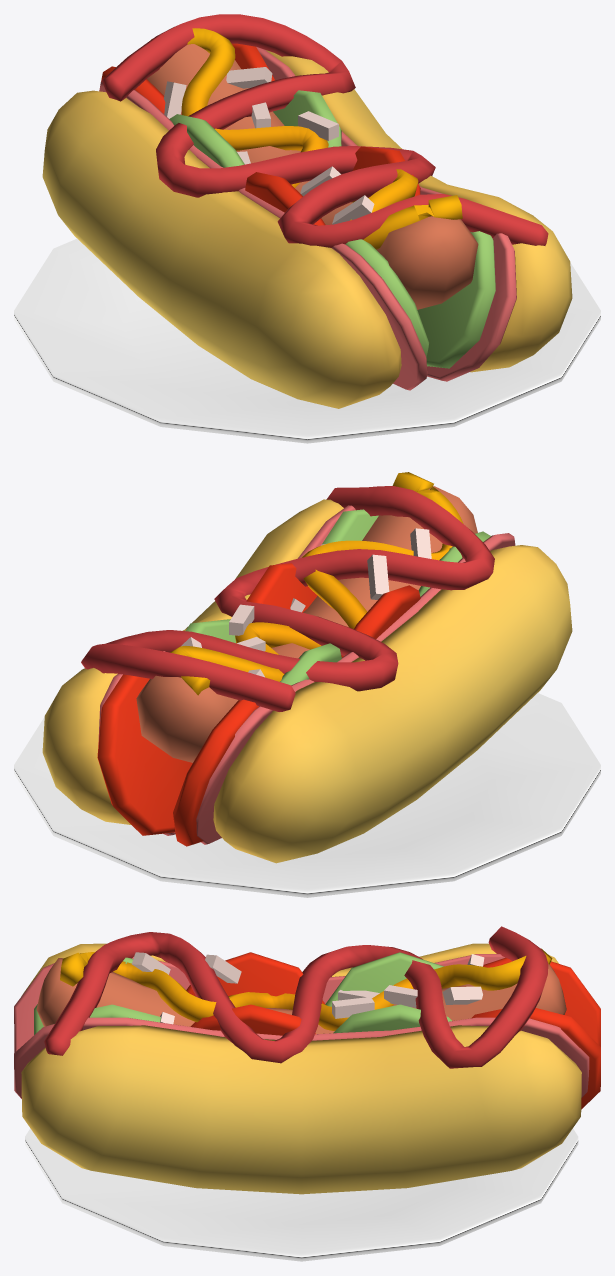
Rendered from SHotdog.fbx.
The picture shows the model from 3 angles, top to bottom: view 1: azimuth 30°, elevation 25°; view 2: azimuth 150°, elevation 25°; view 3: azimuth 270°, elevation 25°; orthographic projection. The views are drawn at different scales.
Visible parts, largest first — view 1: Map02_Hotdog_LV5; view 2: Map02_Hotdog_LV5; view 3: Map02_Hotdog_LV5.
Part boxes in pixels (x1,y1,x2,y2): Map02_Hotdog_LV5: (14,14,600,443); Map02_Hotdog_LV5: (14,472,600,897); Map02_Hotdog_LV5: (14,926,600,1261).
Size of the model in its own units: 151 by 70.16 by 161.
